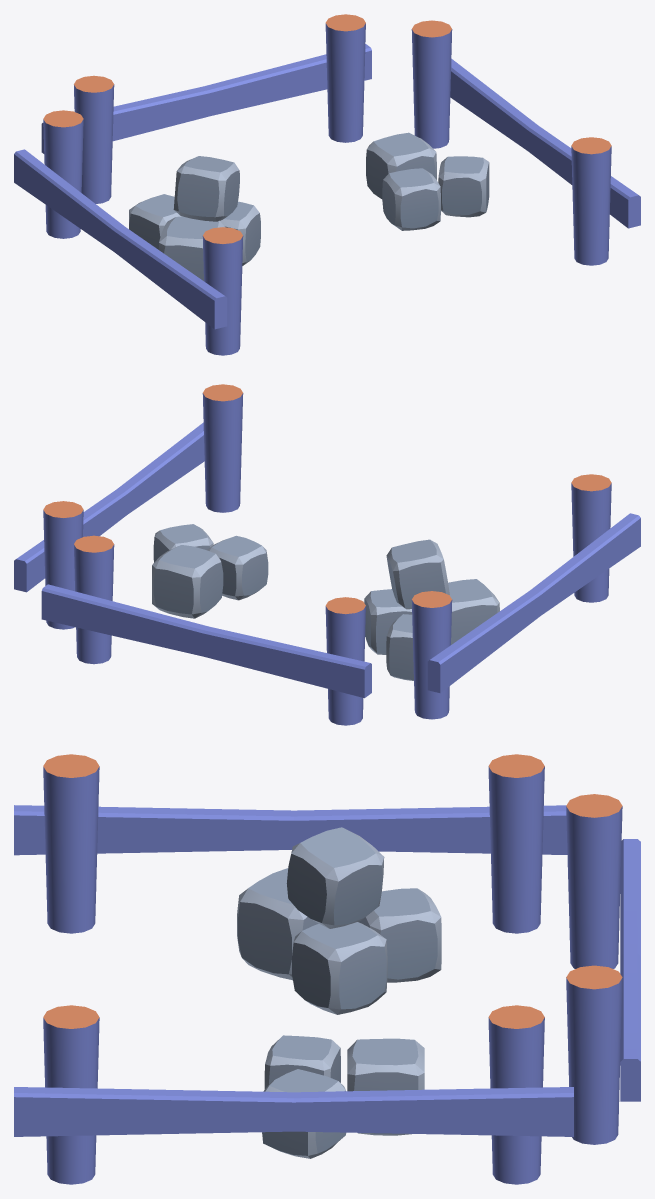
The model's file is Construction.fbx.
3 renders of one model, top to bottom at view 1: azimuth 30°, elevation 25°; view 2: azimuth 150°, elevation 25°; view 3: azimuth 270°, elevation 25°, orthographic. The views are drawn at different scales.
Visible parts, largest first — view 1: Plane.018; view 2: Plane.018; view 3: Plane.018.
Part boxes in pixels (x1,y1,x2,y2): Plane.018: [14, 14, 640, 355]; Plane.018: [14, 384, 640, 725]; Plane.018: [14, 754, 640, 1184].
Bounding box in the file's own units: 635 × 167 × 579.
